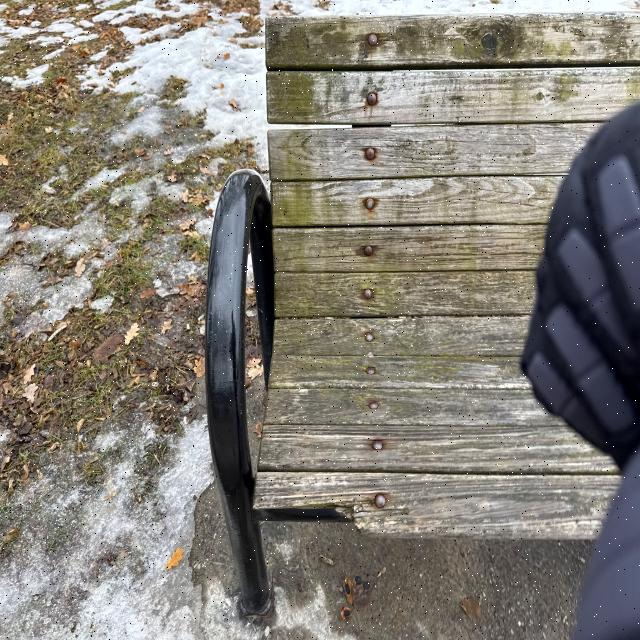Bench: (194, 19, 547, 598)
